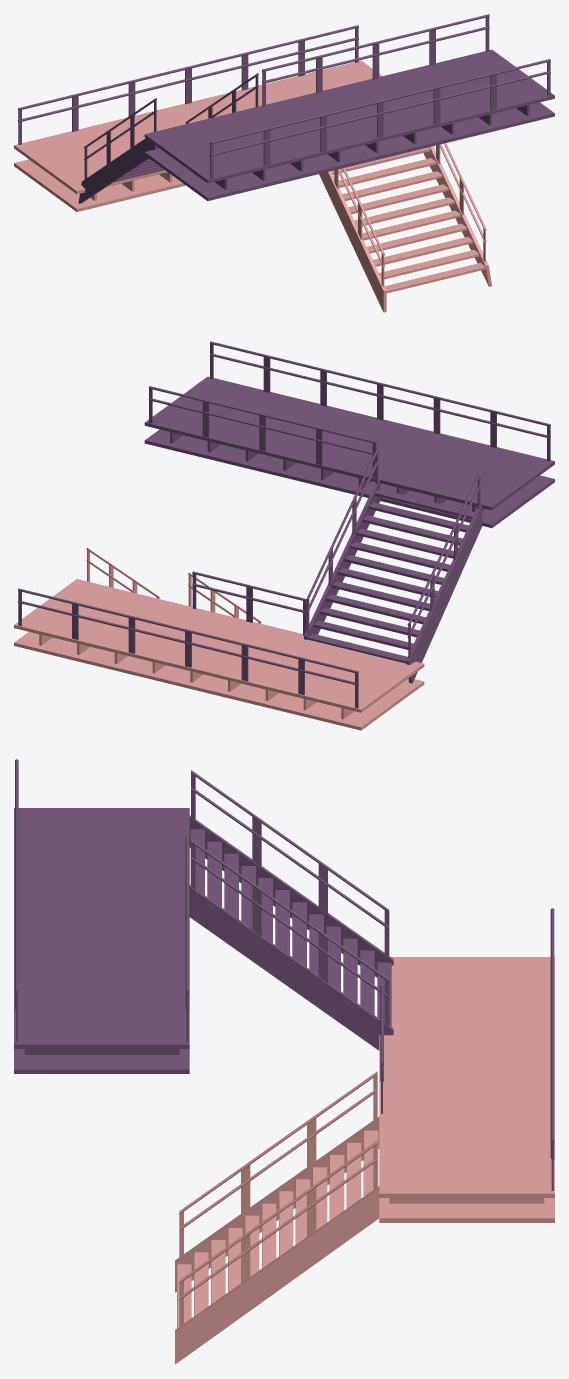
The model's file is meshset_bridge.fbx.
3 views of the same model, one above another, from view 1: azimuth 30°, elevation 25°; view 2: azimuth 150°, elevation 25°; view 3: azimuth 270°, elevation 25° (orthographic). The views are drawn at different scales.
Parts seen in each view (by area): view 1: Bridge_set; view 2: Bridge_set; view 3: Bridge_set.
Part boxes in pixels (left/top/right/bottom): Bridge_set: left=14, top=14, right=554, bottom=312; Bridge_set: left=14, top=341, right=554, bottom=730; Bridge_set: left=14, top=759, right=554, bottom=1364.
Size of the model in its own units: 920 by 679 by 889.
